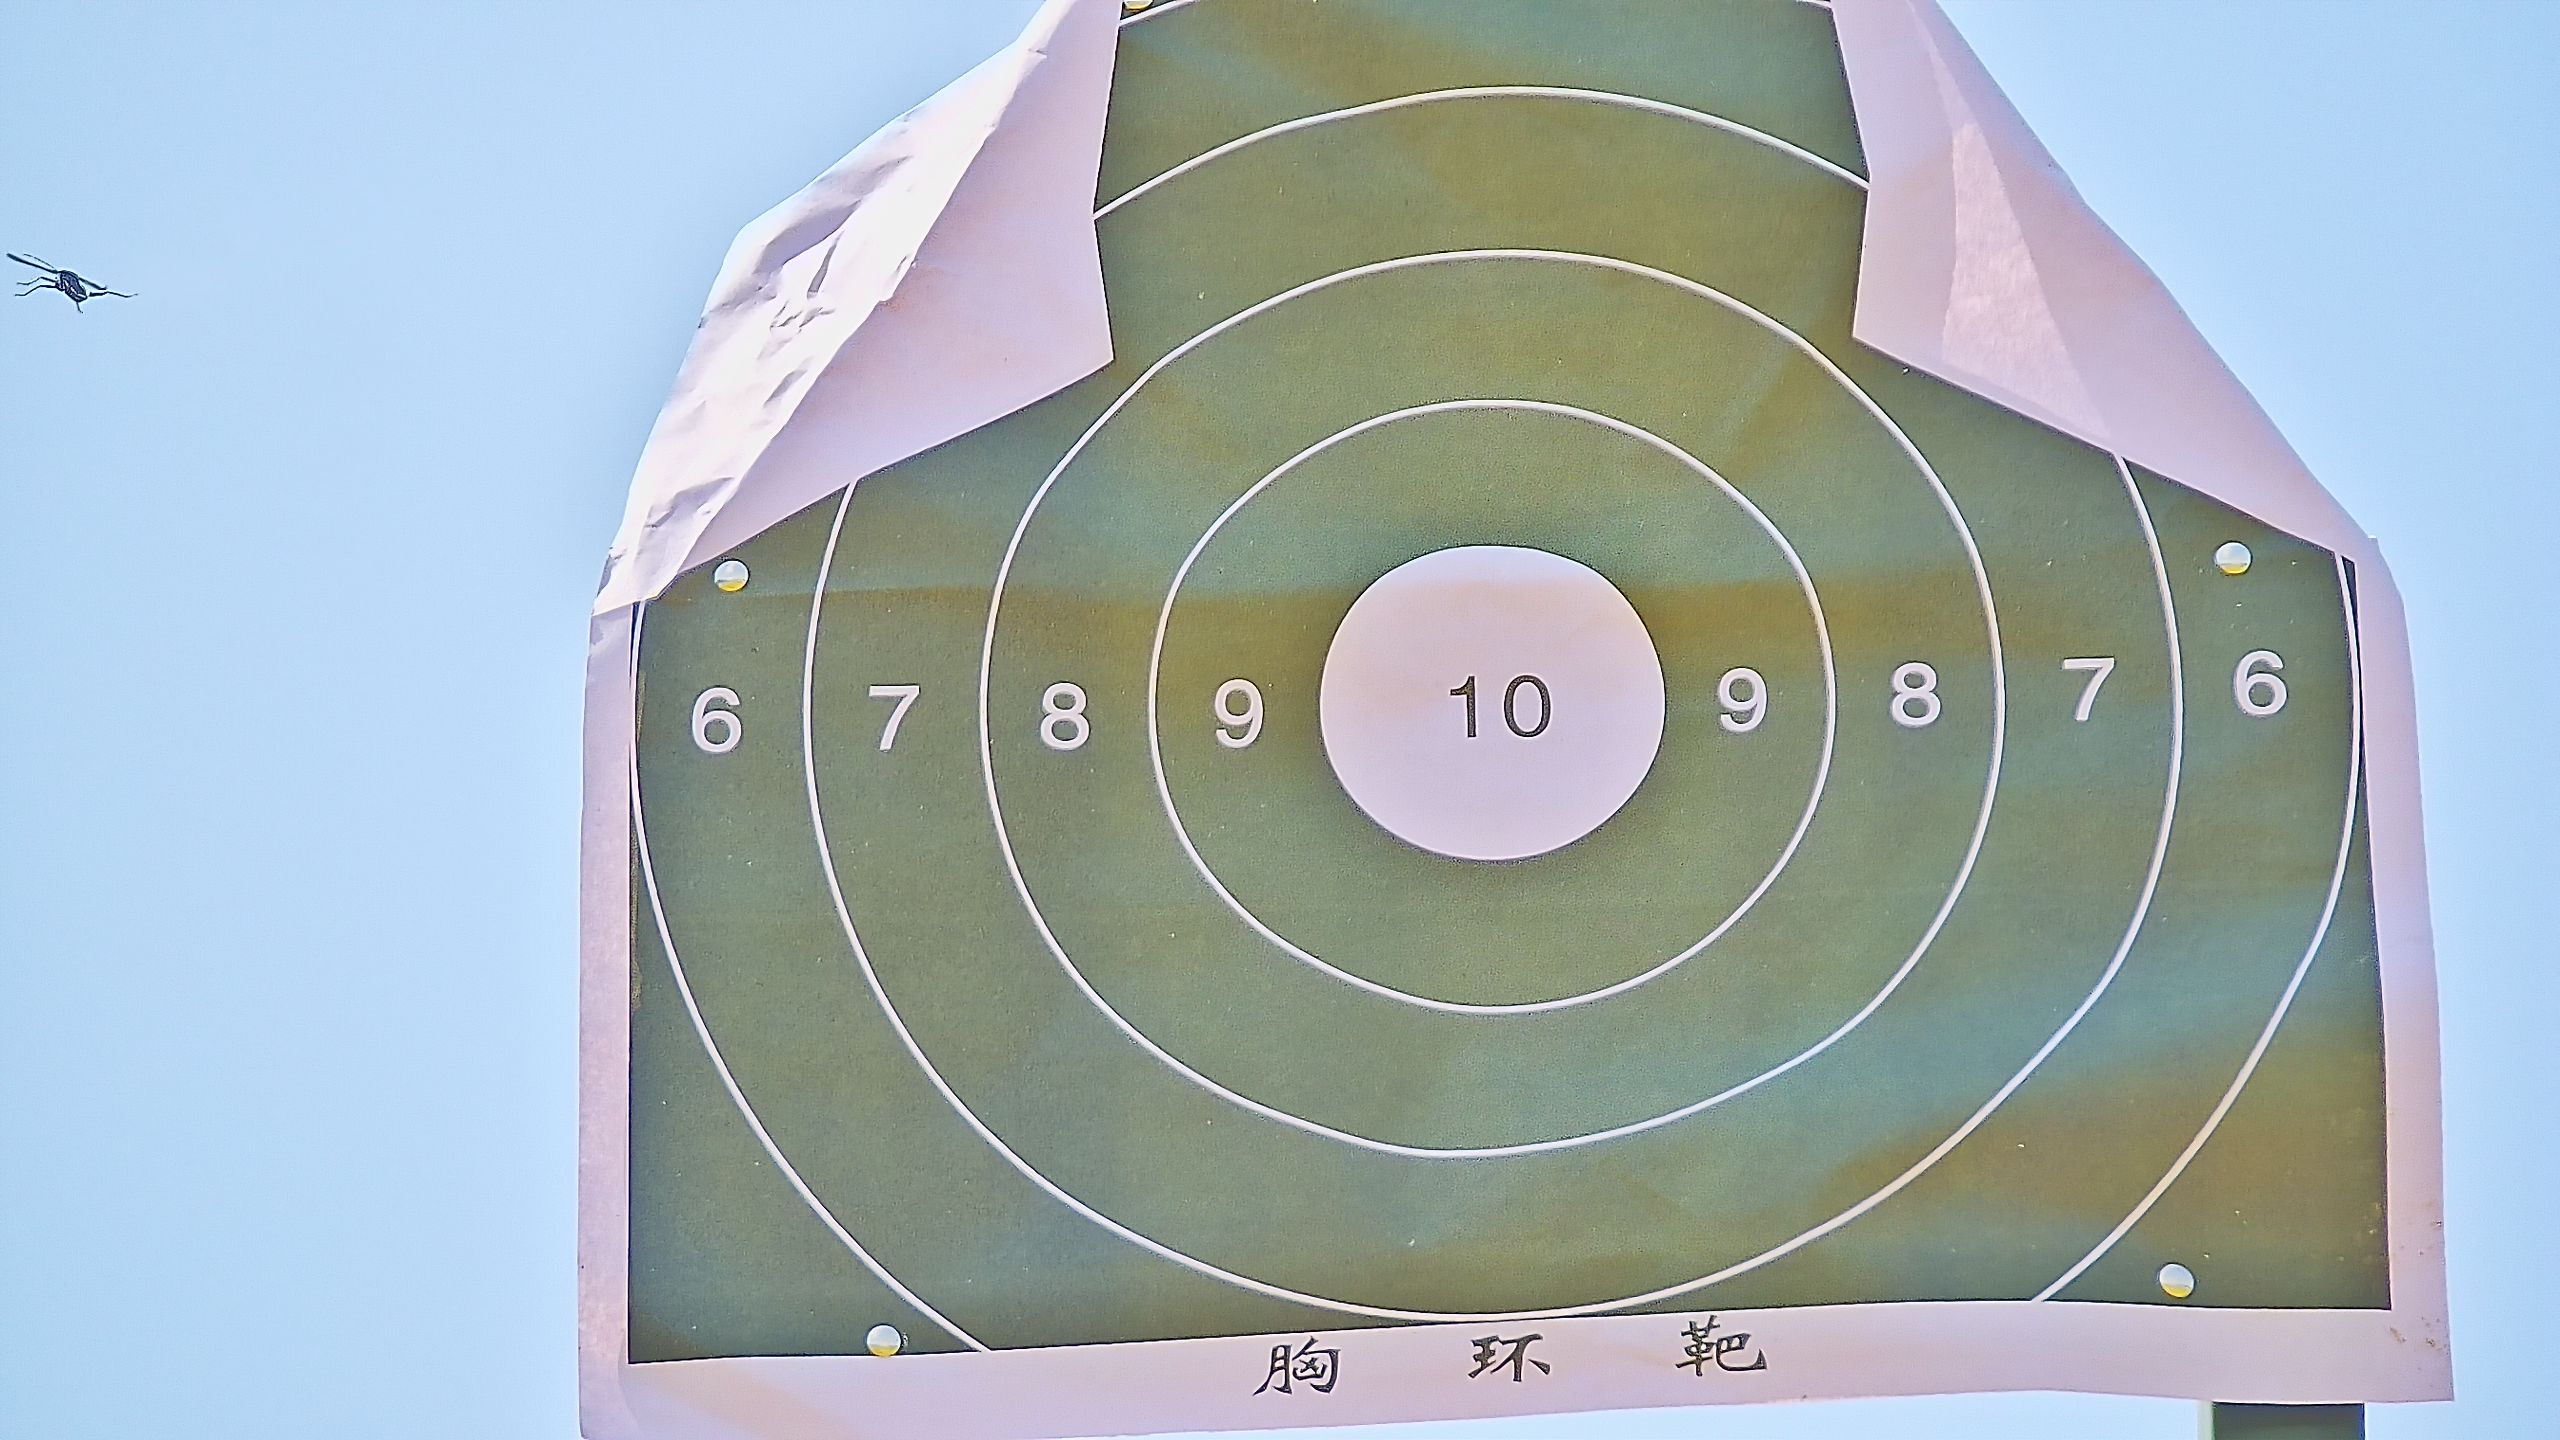kernel: (1486, 707, 1493, 712)
target: (631, 2, 2400, 1356)
ten: (1315, 542, 1669, 862)
